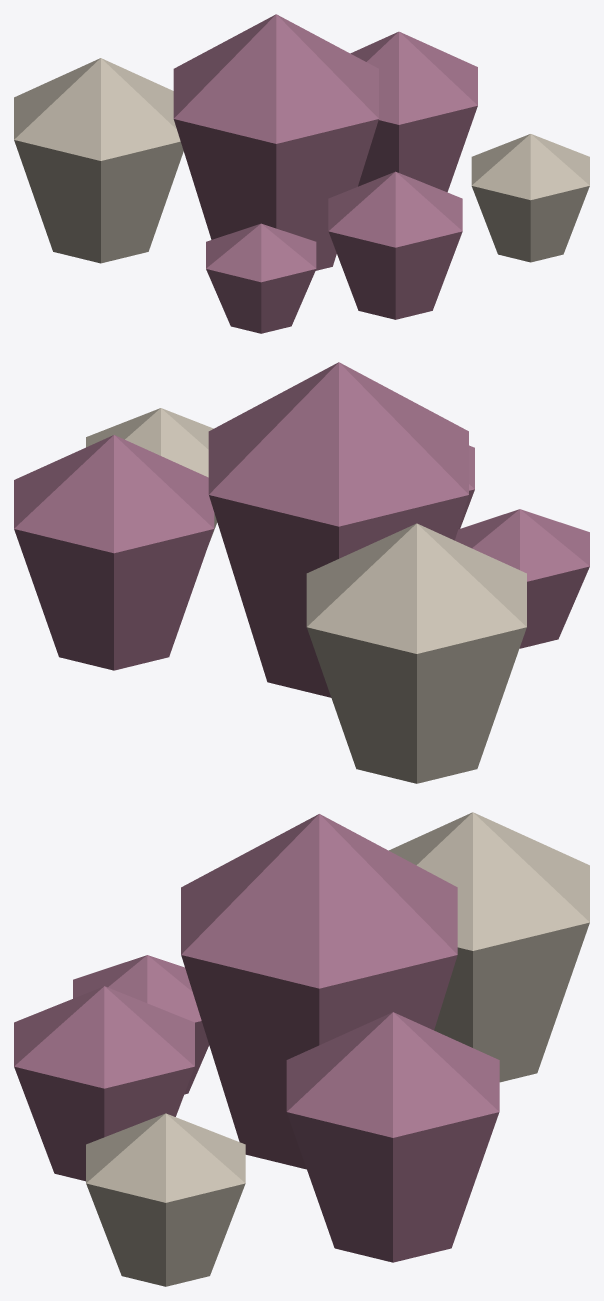
The model's file is fungus_cluster.glb.
3 renders of one model, top to bottom at view 1: azimuth 30°, elevation 25°; view 2: azimuth 150°, elevation 25°; view 3: azimuth 270°, elevation 25°, orthographic. The views are drawn at different scales.
Parts seen in each view (by area): view 1: fungus_cluster; view 2: fungus_cluster; view 3: fungus_cluster.
Boxes of the visible parts, bbox=[...] form: fungus_cluster: bbox=[14, 14, 589, 333]; fungus_cluster: bbox=[14, 362, 589, 783]; fungus_cluster: bbox=[14, 812, 589, 1286].
Size of the model in its own units: 1.17 by 0.578 by 0.9377.
